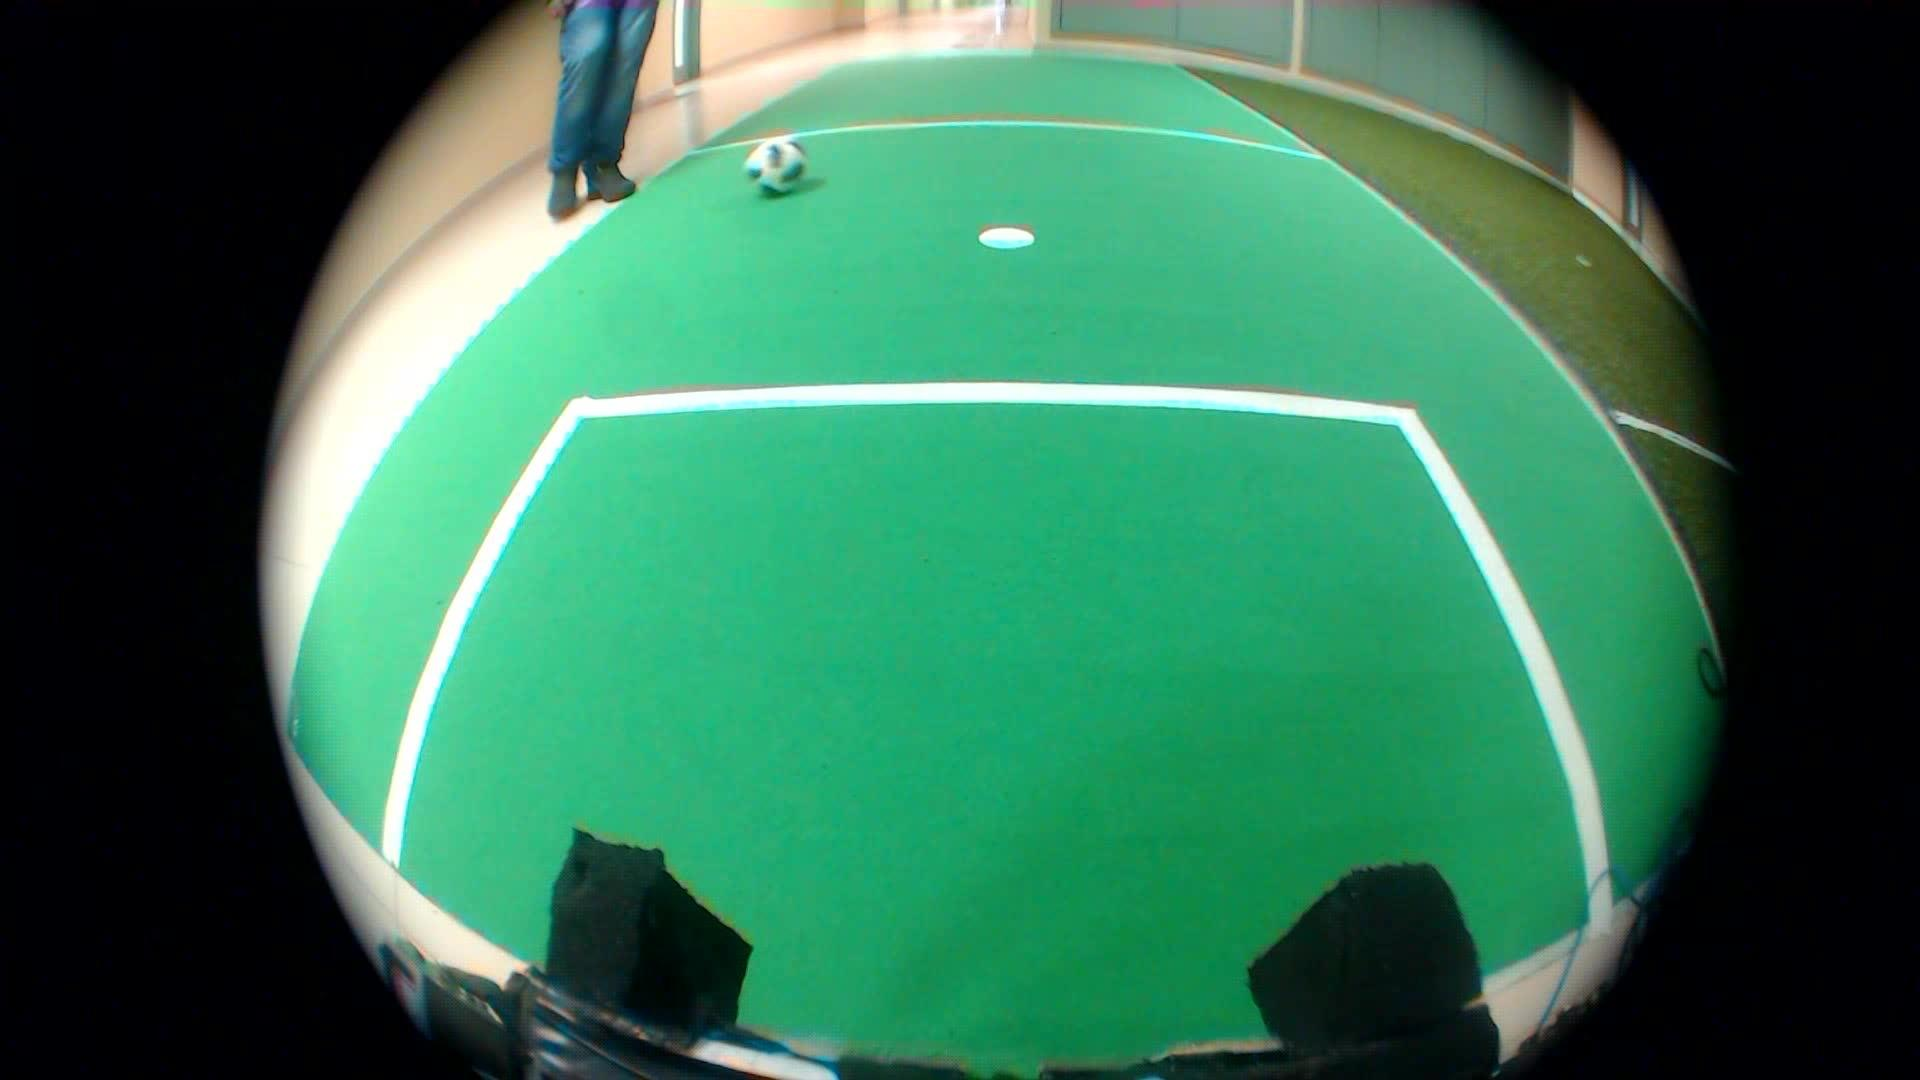ball: (735, 127, 811, 200)
